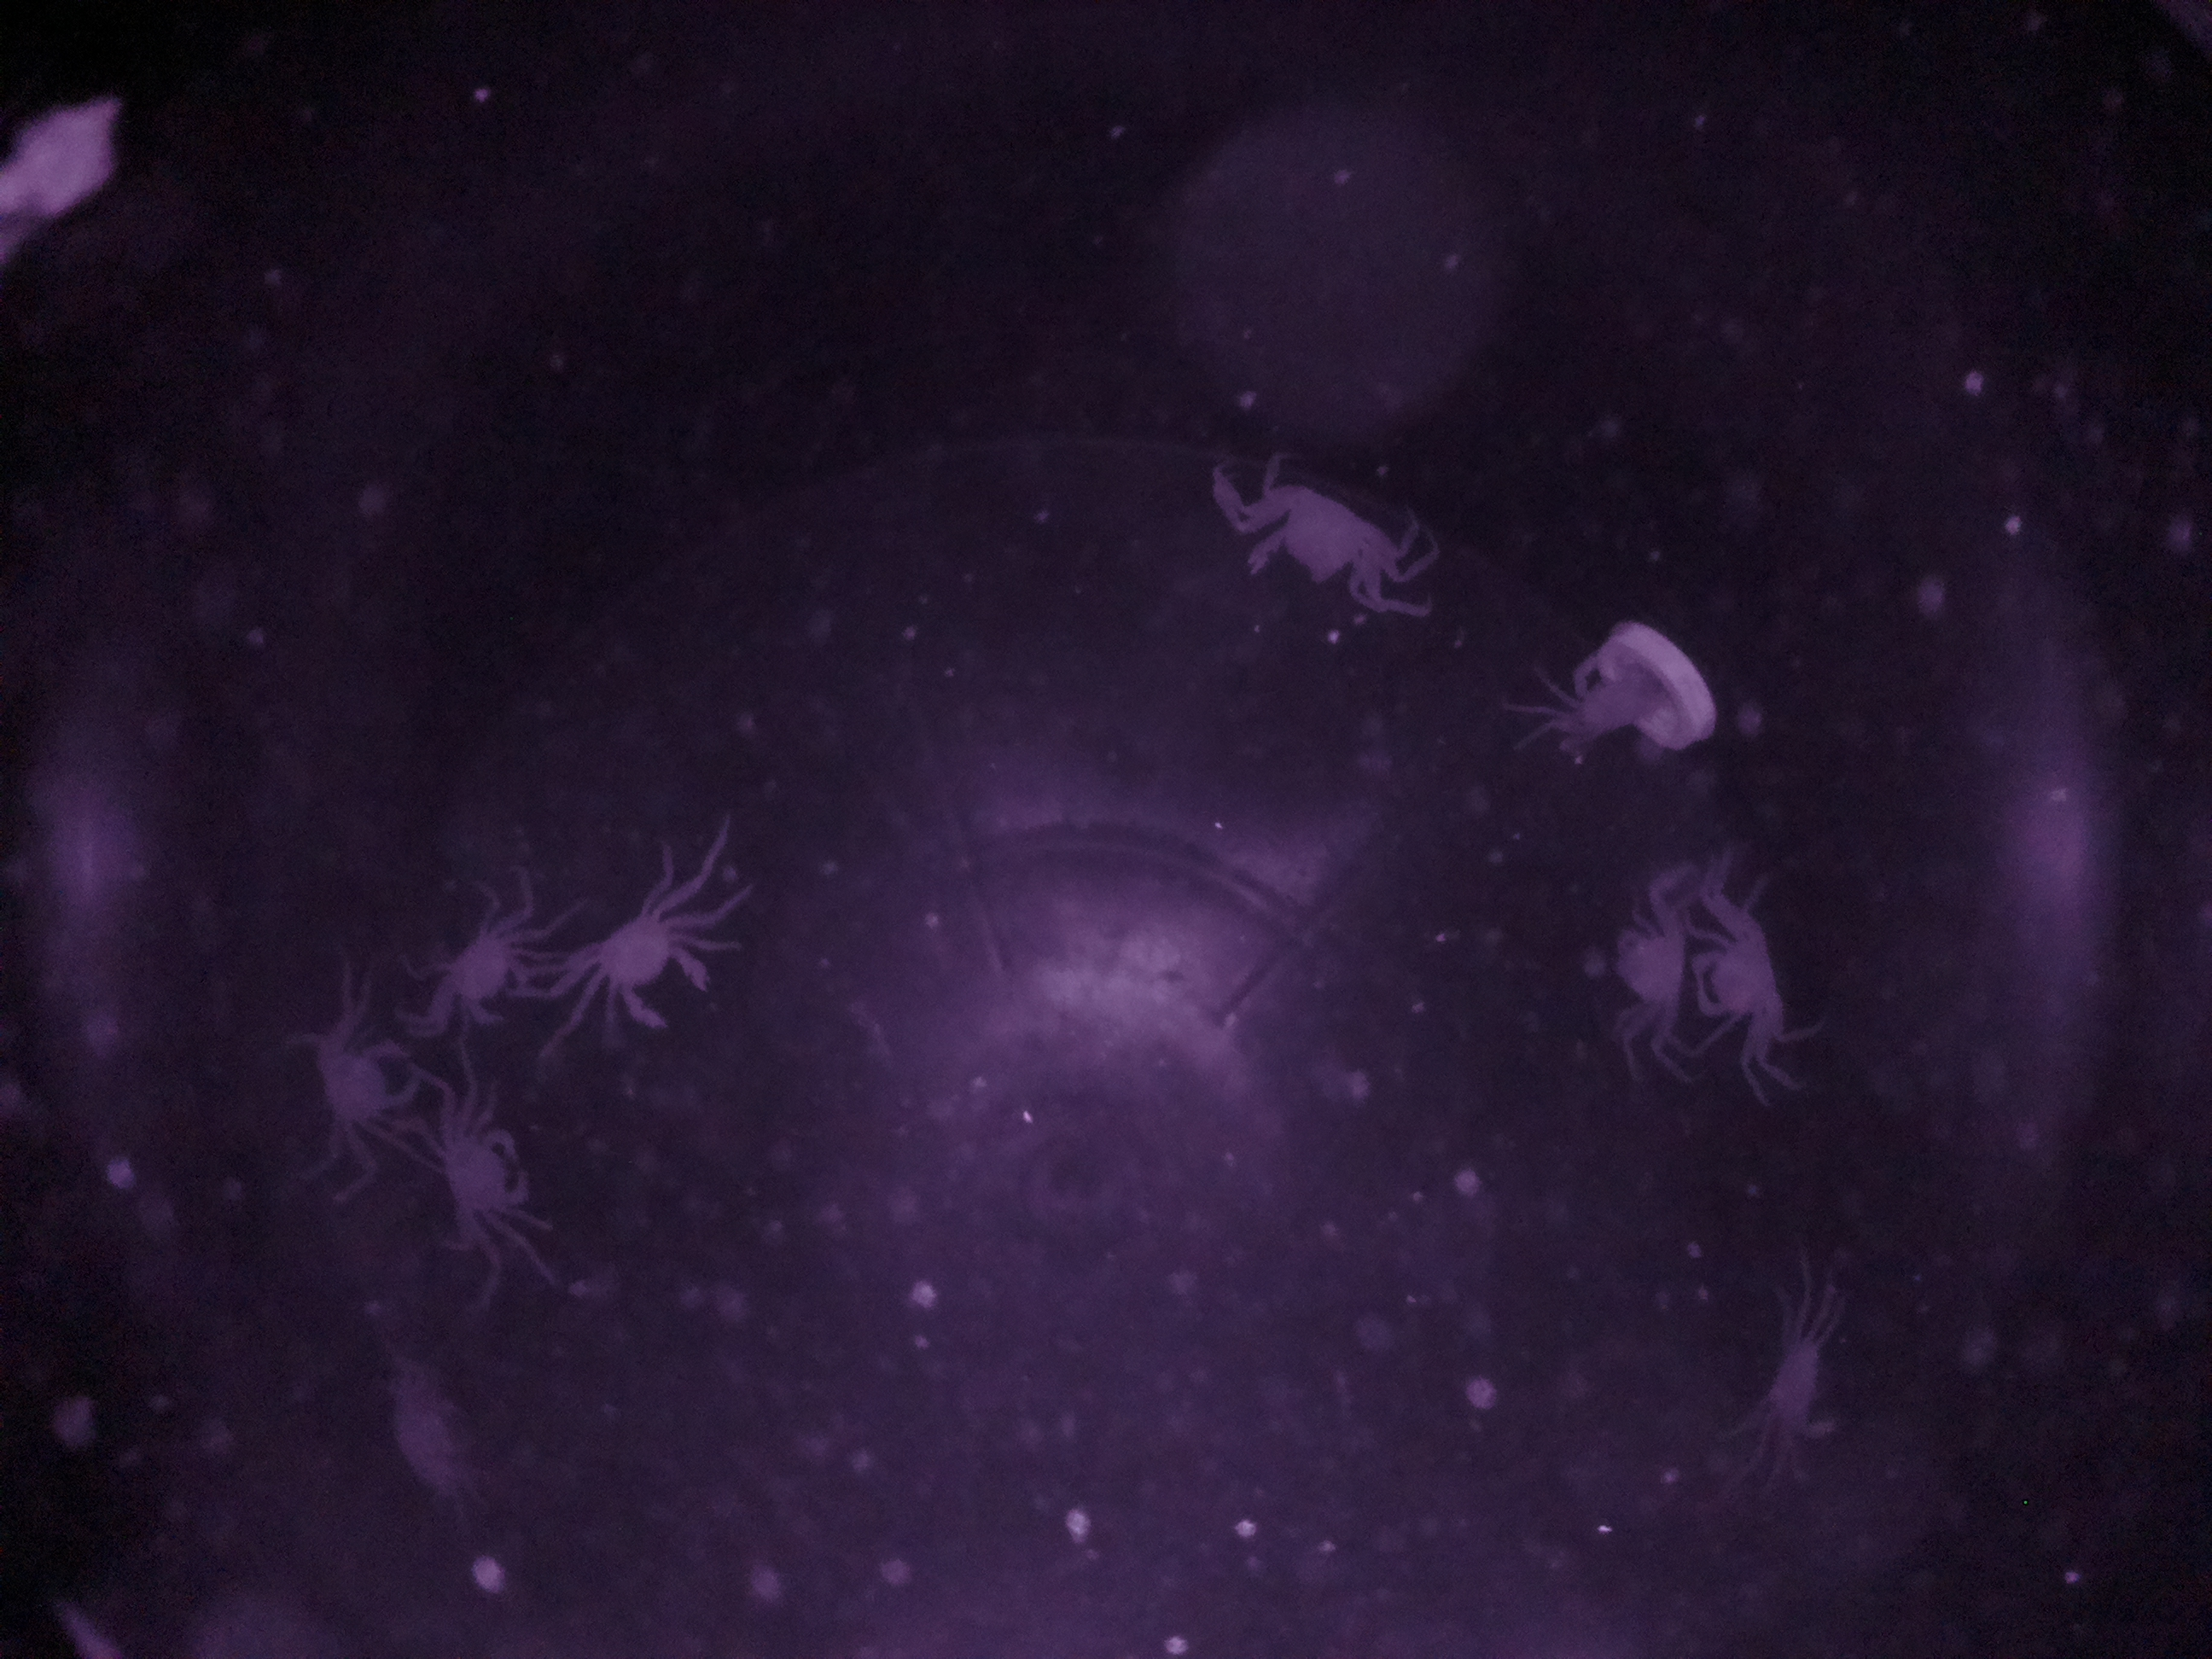Crab: (577, 859, 733, 1051), (293, 981, 425, 1195), (423, 1094, 570, 1283), (423, 863, 559, 1065), (1217, 471, 1409, 610), (1689, 875, 1794, 1110), (1601, 880, 1679, 1075)
